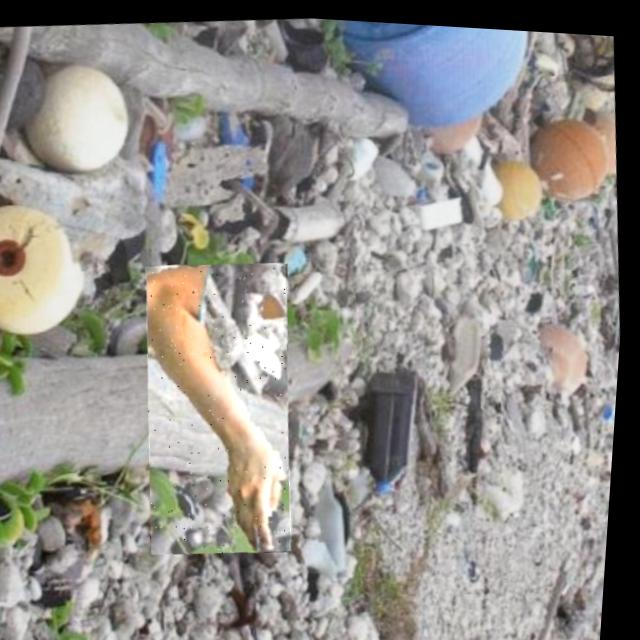Person in Rubble: (132, 252, 313, 559)
